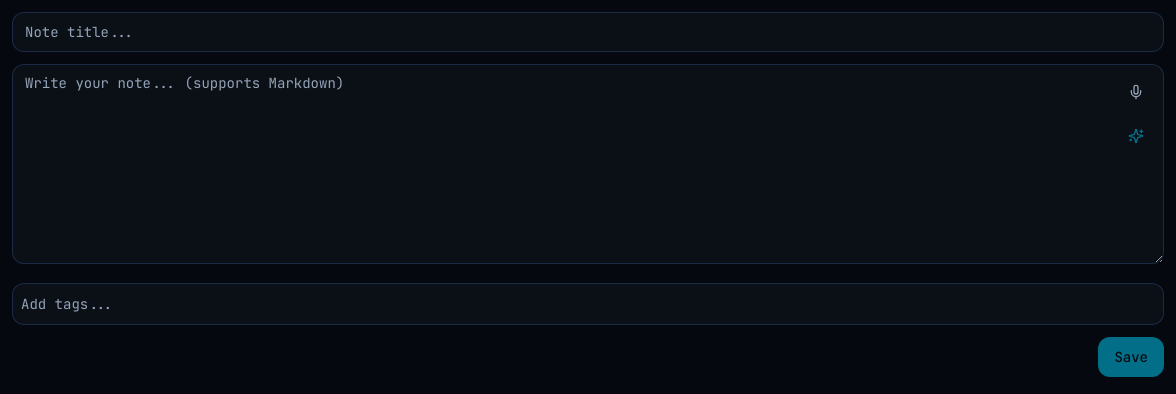
Test: NoteForm › should enable Save button when title has content
Type "My Note" into the field with placeholder "Note title..." at x=588, y=32, box [12,12,1164,52]
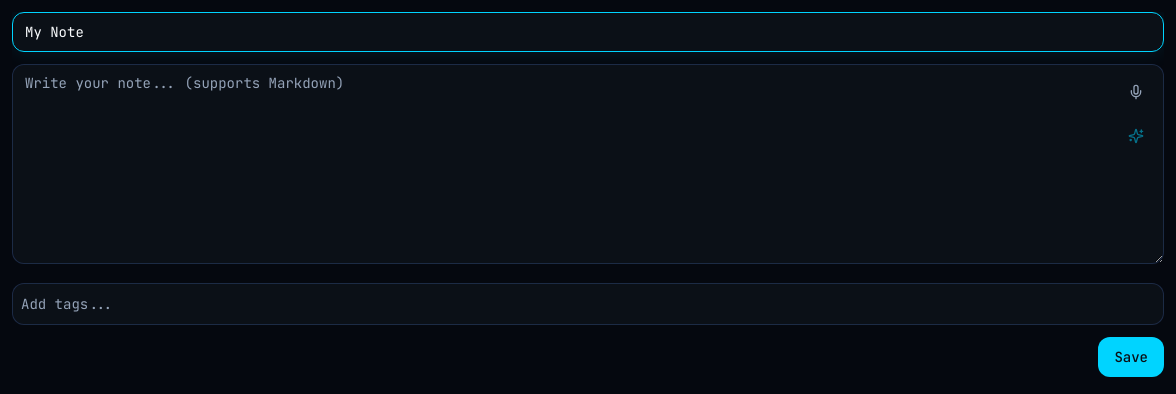
Expected: the button "Save" is enabled, [1098,337,1164,377]
